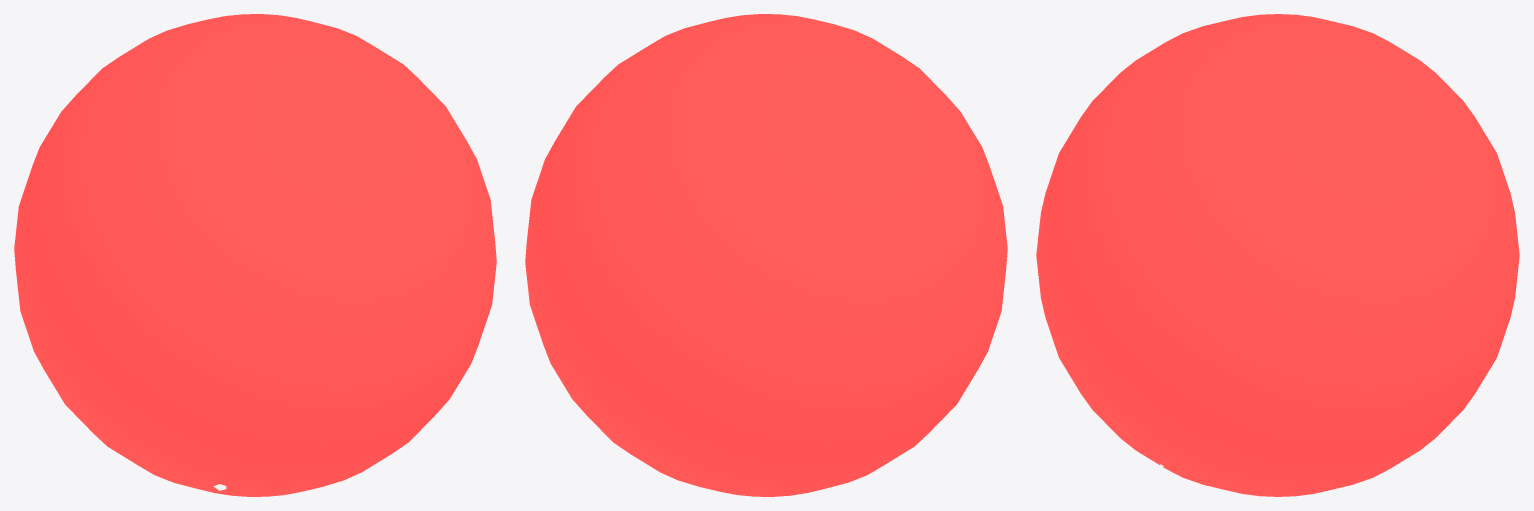
File: pneu-furado.glb
3 renders of one model, left to right at view 1: azimuth 30°, elevation 25°; view 2: azimuth 150°, elevation 25°; view 3: azimuth 270°, elevation 25°, orthographic.
Visible parts, largest first — view 1: Sphere.021; view 2: Sphere.021; view 3: Sphere.021.
Part boxes in pixels (x1=…): Sphere.021: x1=14, y1=14, x2=496, y2=496; Sphere.021: x1=525, y1=14, x2=1007, y2=496; Sphere.021: x1=1036, y1=14, x2=1519, y2=496.
Bounding box in the file's own units: 5.15 × 5.15 × 5.15.
